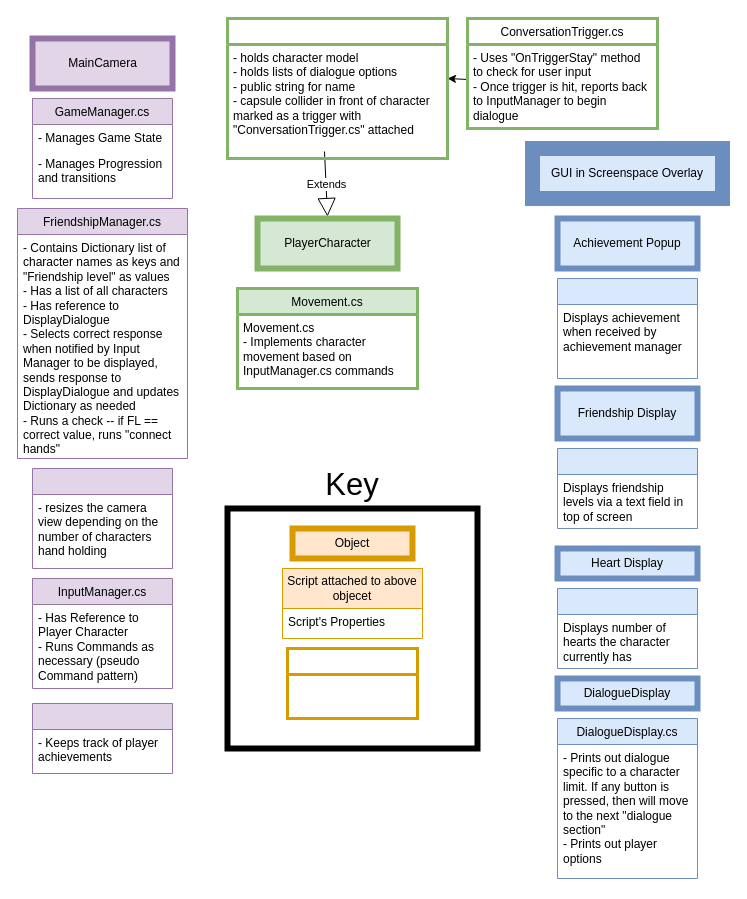
Image size: 747x899. Some labels were removed from this diagram. Here are the shapes that lost their labels. From the top down, the box of each, then its label:
(226, 16, 448, 160): Character Scriptable Object
(556, 278, 698, 378): AchievementPopUp.cs
(556, 448, 698, 528): FriendshipDisplay.cs
(32, 468, 172, 568): CameraResize.cs
(556, 588, 698, 668): HeartDisplay.cs
(286, 646, 418, 720): Unattached Script
(32, 702, 172, 774): AchievementManager.cs
